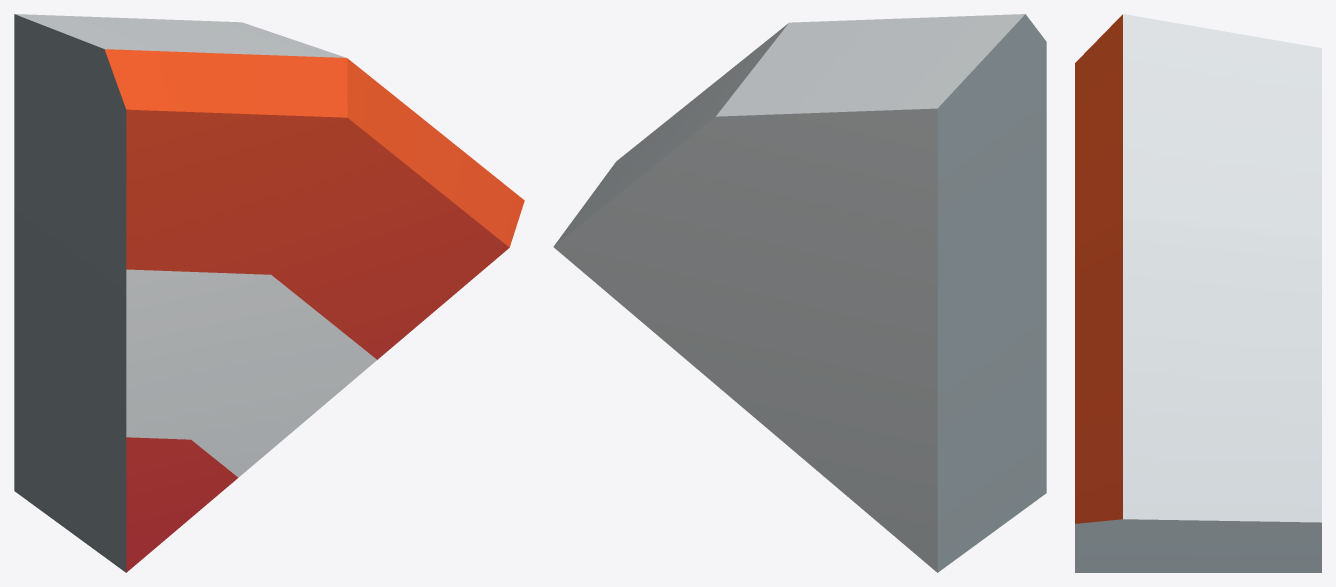
File: target_pieces_A.glb
3 views of the same model, side by side, from view 1: azimuth 30°, elevation 25°; view 2: azimuth 150°, elevation 25°; view 3: azimuth 270°, elevation 25° (orthographic). The views are drawn at different scales.
Visible parts, largest first — view 1: target_pieces_A; view 2: target_pieces_A; view 3: target_pieces_A.
Boxes of the visible parts, box(x1,y1,x2,y2) form: target_pieces_A: box(14, 14, 524, 572); target_pieces_A: box(553, 14, 1046, 572); target_pieces_A: box(1075, 14, 1321, 572).
Size of the model in its own units: 0.433 by 0.5 by 0.2.
1 material, 1 textured.
